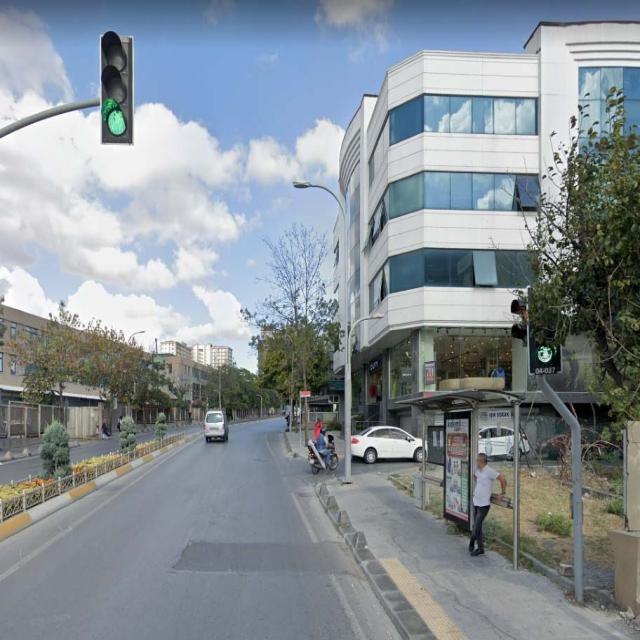yesil: (99, 33, 133, 145), (526, 284, 562, 374)
